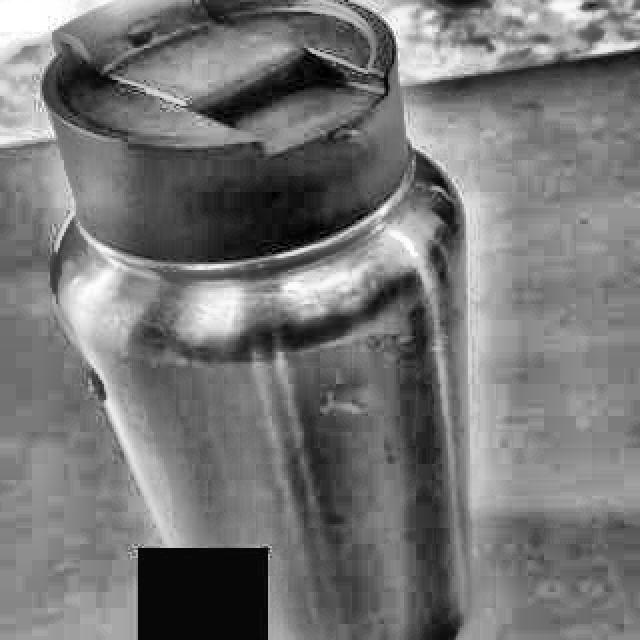bottle: (42, 0, 466, 640)
